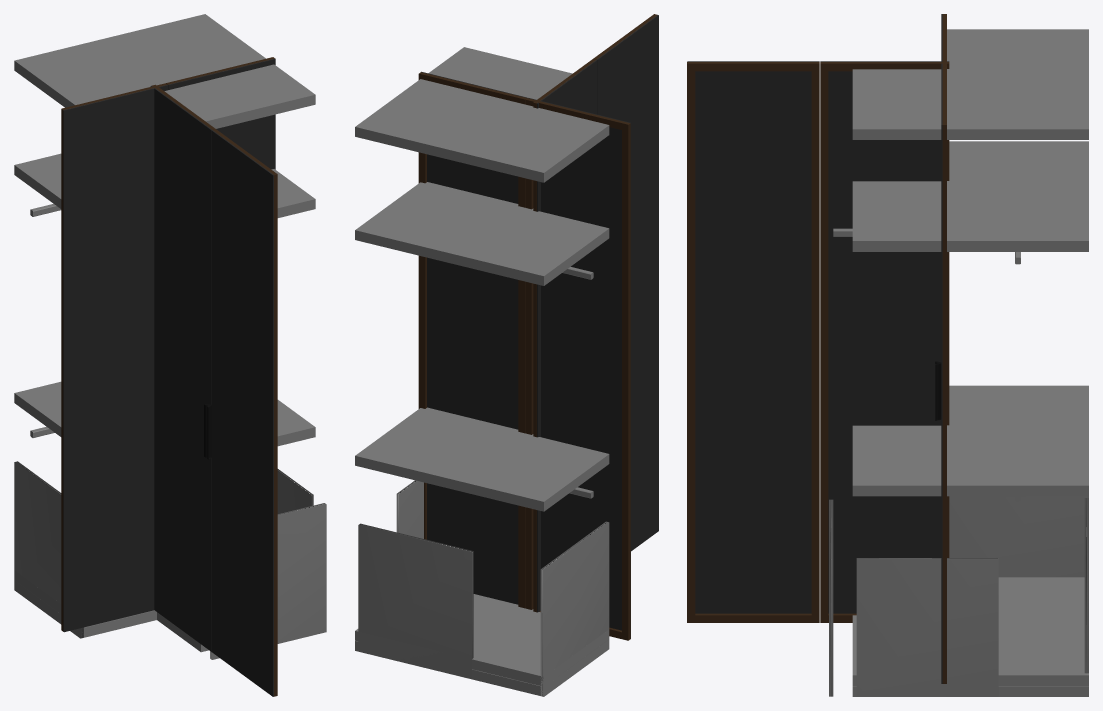
3 renders of one model, left to right at view 1: azimuth 30°, elevation 25°; view 2: azimuth 150°, elevation 25°; view 3: azimuth 270°, elevation 25°, orthographic. The views are drawn at different scales.
Parts seen in each view (by area): view 1: showroom_02; view 2: showroom_02; view 3: showroom_02.
Boxes of the visible parts, left/top/right/bottom form: showroom_02: left=14, top=14, right=326, bottom=696; showroom_02: left=355, top=14, right=658, bottom=696; showroom_02: left=687, top=14, right=1088, bottom=696.
Size of the model in its own units: 1.11 by 2.68 by 1.7.
